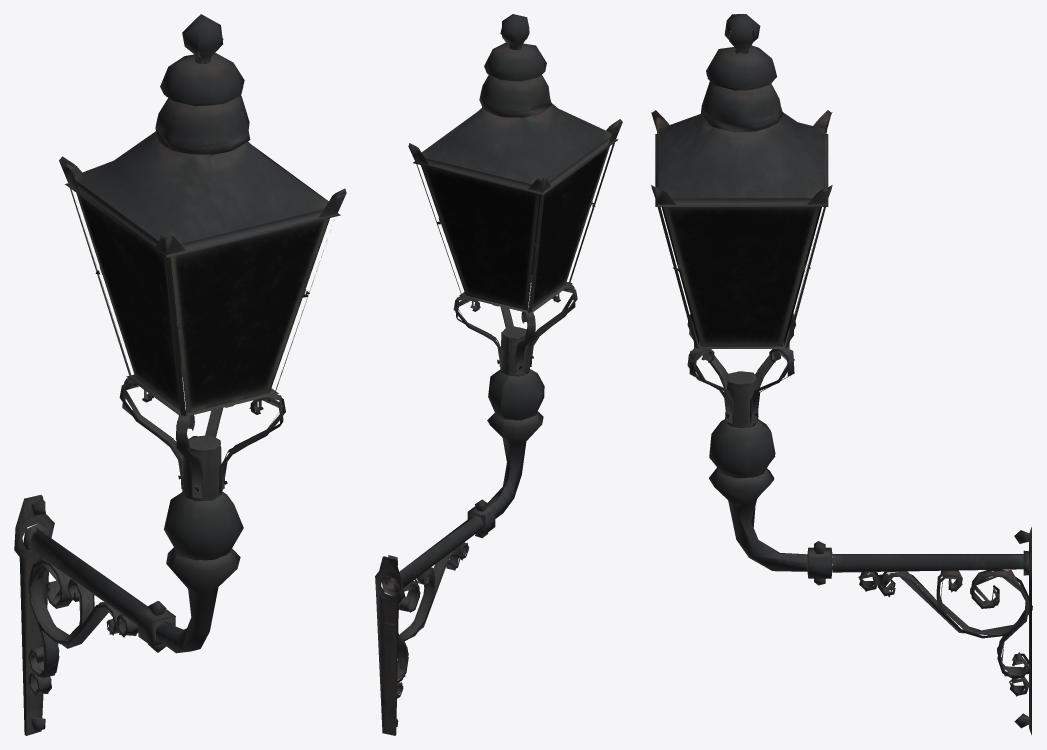
File: street_lamp_02.glb
3 views of the same model, side by side, from view 1: azimuth 30°, elevation 25°; view 2: azimuth 150°, elevation 25°; view 3: azimuth 270°, elevation 25° (orthographic). The views are drawn at different scales.
Parts seen in each view (by area): view 1: street_lamp_02; view 2: street_lamp_02; view 3: street_lamp_02.
Part boxes in pixels (<box>): street_lamp_02: <box>14,14,346,735</box>; street_lamp_02: <box>375,14,622,735</box>; street_lamp_02: <box>651,14,1032,735</box>.
Bounding box in the file's own units: 0.3839 × 1.68 × 0.8073.
Materials: 3 (3 with a texture image).
